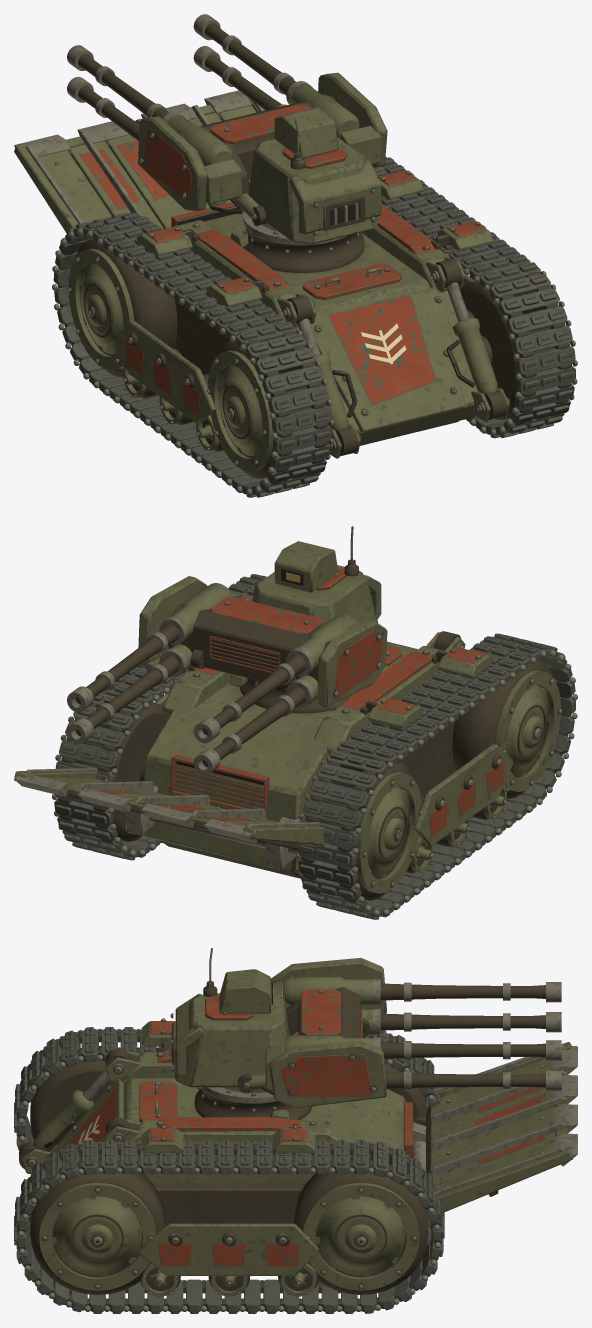
The model's file is bracken_complete.glb.
3 views of the same model, one above another, from view 1: azimuth 30°, elevation 25°; view 2: azimuth 150°, elevation 25°; view 3: azimuth 270°, elevation 25° (orthographic). The views are drawn at different scales.
Parts seen in each view (by area): view 1: RearGlacisSurface, TurretYawSurface, HullSurface, Wheel_L_FrontSurface, Wheel_L_RearSurface, GunShield-1Surface, BrackenLifterSurface, TrackSideCoverLSurface, SuspensionRam1Surface, Shoulder-1Surface, CannonRecoilBracken_2Surface, CannonRecoilBracken_0Surface (+44 smaller); view 2: HullSurface, Wheel_L_RearSurface, BrackenLifterSurface, AttachmentCannonBrackenSurface, TurretYawSurface, Wheel_L_FrontSurface, TrackSideCoverLSurface, GunShield-1Surface, Shoulder-1Surface, CannonRecoilBracken_2Surface, CannonRecoilBracken_0Surface, CannonRecoilBracken_3Surface (+37 smaller); view 3: Wheel_R_RearSurface, Wheel_R_FrontSurface, TurretYawSurface, BrackenLifterSurface, HullSurface, TrackSideCoverRSurface, GunShield1Surface, DriveRightSurface, CannonRecoilBracken_0Surface, Shoulder1Surface, CannonRecoilBracken_2Surface, SuspensionRam-1Surface (+53 smaller).
Part boxes in pixels (box(x1,y1,x2,y2)): RearGlacisSurface: box(310, 286, 464, 433); TurretYawSurface: box(208, 107, 381, 244); HullSurface: box(171, 202, 492, 445); Wheel_L_FrontSurface: box(67, 239, 177, 377); Wheel_L_RearSurface: box(206, 341, 311, 478); GunShield-1Surface: box(138, 116, 241, 210); BrackenLifterSurface: box(14, 90, 264, 233); TrackSideCoverLSurface: box(117, 320, 216, 423); SuspensionRam1Surface: box(426, 257, 509, 422); Shoulder-1Surface: box(174, 220, 301, 327); CannonRecoilBracken_2Surface: box(193, 14, 359, 138); CannonRecoilBracken_0Surface: box(67, 45, 232, 165); HullSurface: box(126, 649, 410, 878); Wheel_L_RearSurface: box(452, 661, 562, 798); BrackenLifterSurface: box(14, 768, 329, 858); AttachmentCannonBrackenSurface: box(168, 597, 329, 686); TurretYawSurface: box(252, 526, 381, 631); Wheel_L_FrontSurface: box(320, 762, 422, 900); TrackSideCoverLSurface: box(414, 744, 513, 846); GunShield-1Surface: box(317, 619, 387, 707); Shoulder-1Surface: box(314, 646, 448, 754); CannonRecoilBracken_2Surface: box(67, 583, 232, 712); CannonRecoilBracken_0Surface: box(193, 614, 358, 743); CannonRecoilBracken_3Surface: box(67, 644, 191, 744); Wheel_R_RearSurface: box(30, 1157, 164, 1294); Wheel_R_FrontSurface: box(294, 1158, 428, 1294); TurretYawSurface: box(169, 948, 299, 1102); BrackenLifterSurface: box(413, 1042, 577, 1244); HullSurface: box(51, 1078, 426, 1182); TrackSideCoverRSurface: box(138, 1223, 318, 1275); GunShield1Surface: box(265, 1040, 386, 1107); DriveRightSurface: box(152, 1182, 306, 1226); CannonRecoilBracken_0Surface: box(285, 977, 561, 1005); Shoulder1Surface: box(131, 1117, 350, 1160); CannonRecoilBracken_2Surface: box(285, 1035, 561, 1060); SuspensionRam-1Surface: box(19, 1048, 140, 1173).
Size of the model in its own units: 1.98 by 1.81 by 3.25.
10 materials, 8 textured.
